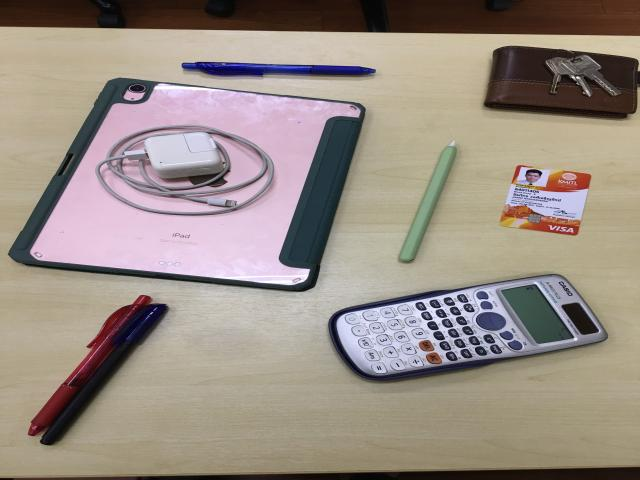Keys: (545, 56, 617, 94)
Pen: (28, 297, 170, 447), (179, 61, 379, 79)
Wallet: (484, 47, 640, 118)
wire: (90, 124, 279, 221)
